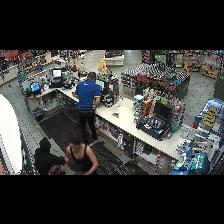person: (76, 72, 100, 144), (65, 135, 97, 174), (35, 138, 65, 174)
